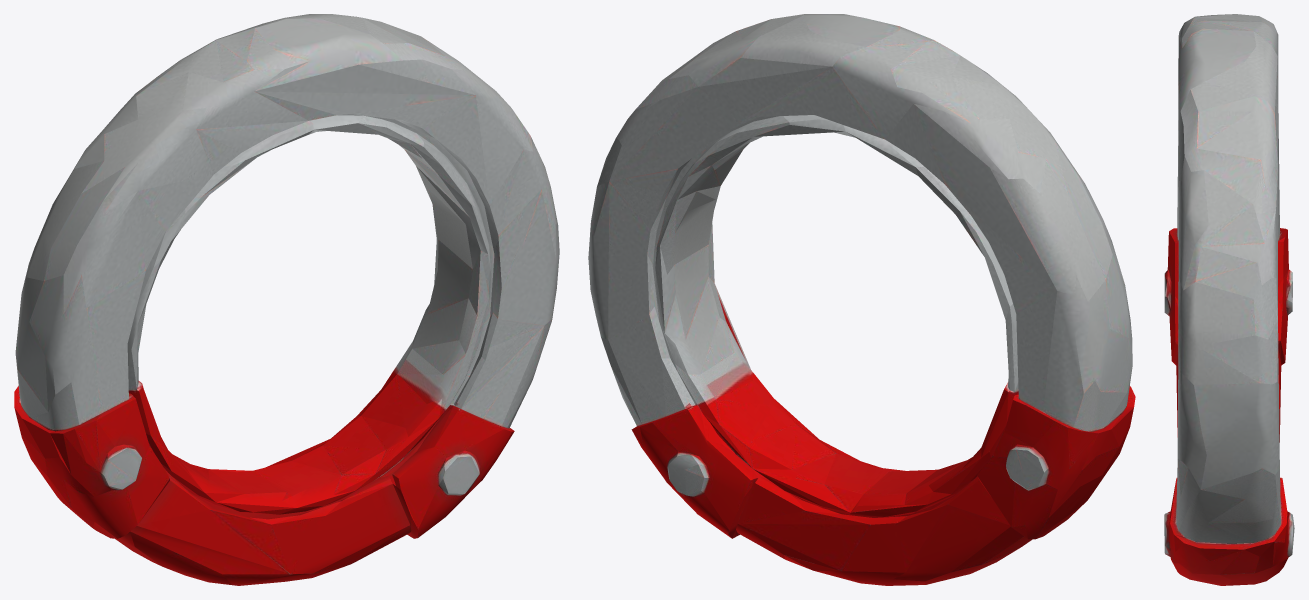
Rendered from magnet.glb.
3 renders of one model, left to right at view 1: azimuth 30°, elevation 25°; view 2: azimuth 150°, elevation 25°; view 3: azimuth 270°, elevation 25°, orthographic. The views are drawn at different scales.
Bounding box in the file's own units: 1.9 × 1.9 × 0.44.
1 material, 1 textured.
